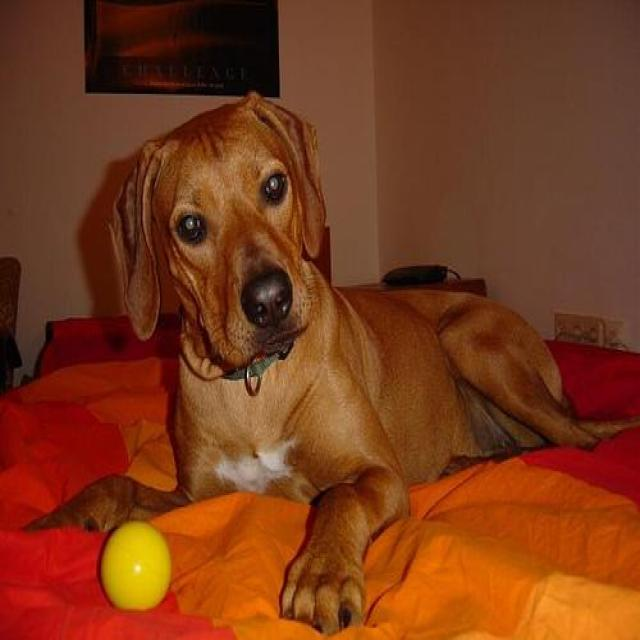rhodesian_ridgeback: (104, 85, 628, 635)
